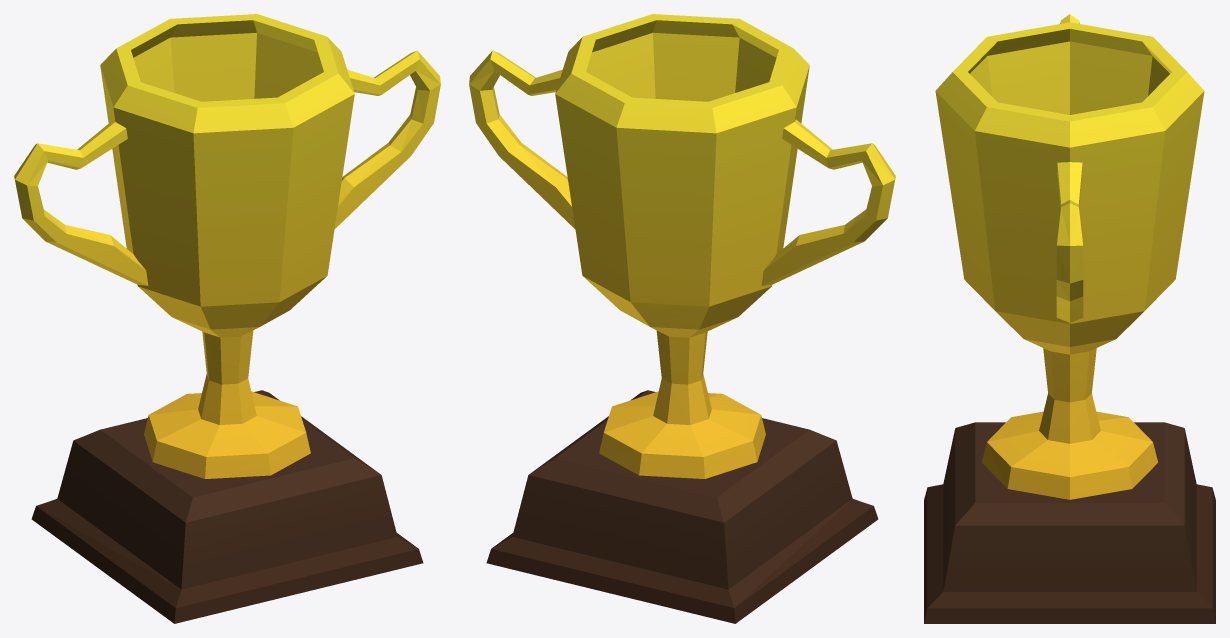
File: Throphy1.fbx
3 views of the same model, side by side, from view 1: azimuth 30°, elevation 25°; view 2: azimuth 150°, elevation 25°; view 3: azimuth 270°, elevation 25° (orthographic). The views are drawn at different scales.
Parts seen in each view (by area): view 1: Trophy.008; view 2: Trophy.008; view 3: Trophy.008.
Boxes of the visible parts, bbox=[...] form: Trophy.008: bbox=[14, 14, 440, 623]; Trophy.008: bbox=[469, 14, 895, 623]; Trophy.008: bbox=[924, 14, 1215, 623].
Size of the model in its own units: 1.42 by 1.54 by 0.8295.
